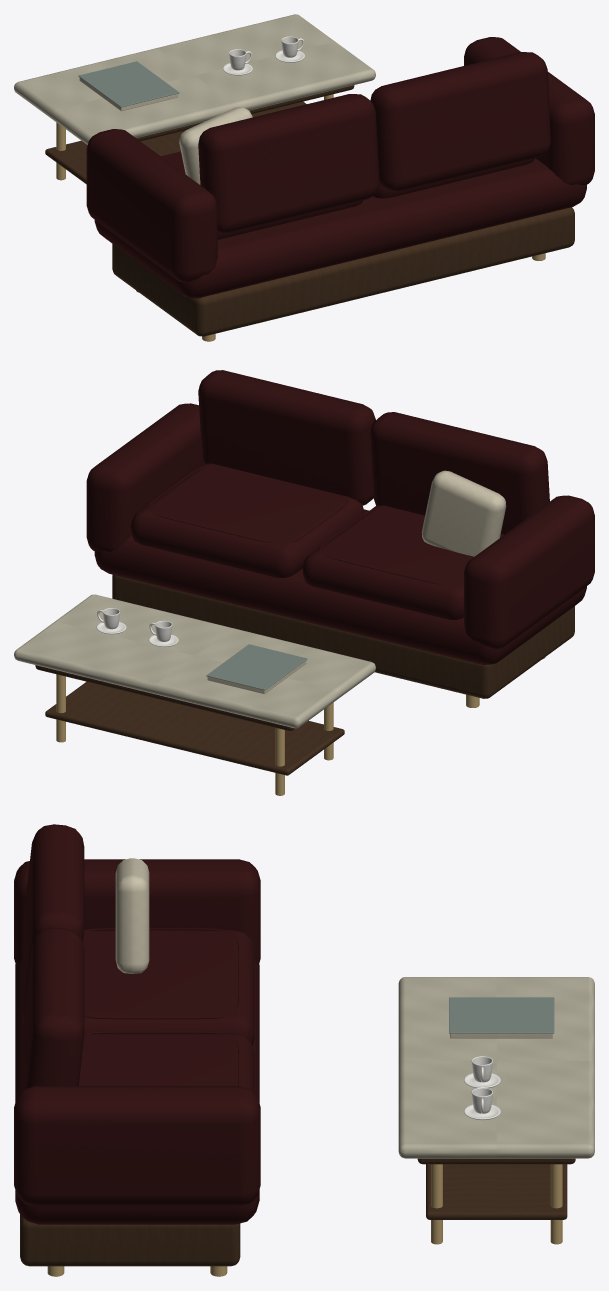
File: lounge-316.glb
The picture shows the model from 3 angles, top to bottom: view 1: azimuth 30°, elevation 25°; view 2: azimuth 150°, elevation 25°; view 3: azimuth 270°, elevation 25°; orthographic projection. The views are drawn at different scales.
Visible parts, largest first — view 1: Merged | Muted oxblood upholstery, Coffee table | rounded stone top, Sofa | recessed plinth, Hotel magazine cover, Merged | Smoked oak | fine vertical grain.006, Sofa | accent pillow, Merged | Aged champagne brass.008; view 2: Merged | Muted oxblood upholstery, Coffee table | rounded stone top, Sofa | recessed plinth, Merged | Smoked oak | fine vertical grain.006, Sofa | accent pillow, Hotel magazine cover, Merged | Aged champagne brass.008; view 3: Merged | Muted oxblood upholstery, Coffee table | rounded stone top, Sofa | recessed plinth, Merged | Smoked oak | fine vertical grain.006, Hotel magazine cover, Sofa | accent pillow, Merged | Aged champagne brass.008, Hotel magazine pages.
Part boxes in pixels (<box>): Merged | Muted oxblood upholstery: <box>86,37,594,298</box>; Coffee table | rounded stone top: <box>14,14,375,144</box>; Sofa | recessed plinth: <box>112,207,574,336</box>; Hotel magazine cover: <box>78,61,179,107</box>; Merged | Smoked oak | fine vertical grain.006: <box>45,85,354,184</box>; Sofa | accent pillow: <box>179,107,252,184</box>; Merged | Aged champagne brass.008: <box>56,94,333,180</box>; Merged | Muted oxblood upholstery: <box>86,370,594,664</box>; Coffee table | rounded stone top: <box>14,594,375,728</box>; Sofa | recessed plinth: <box>112,575,574,698</box>; Merged | Smoked oak | fine vertical grain.006: <box>35,665,344,775</box>; Sofa | accent pillow: <box>421,470,506,556</box>; Hotel magazine cover: <box>206,644,307,690</box>; Merged | Aged champagne brass.008: <box>56,674,333,795</box>; Merged | Muted oxblood upholstery: <box>14,824,260,1224</box>; Coffee table | rounded stone top: <box>398,977,594,1158</box>; Sofa | recessed plinth: <box>20,1214,240,1266</box>; Merged | Smoked oak | fine vertical grain.006: <box>417,1158,575,1219</box>; Hotel magazine cover: <box>449,997,554,1033</box>; Sofa | accent pillow: <box>115,858,149,973</box>; Merged | Aged champagne brass.008: <box>431,1164,562,1244</box>; Hotel magazine pages: <box>450,1033,552,1038</box>.
Size of the model in its own units: 2.5 by 1.18 by 2.43.
Materials: 7 (4 with a texture image).
